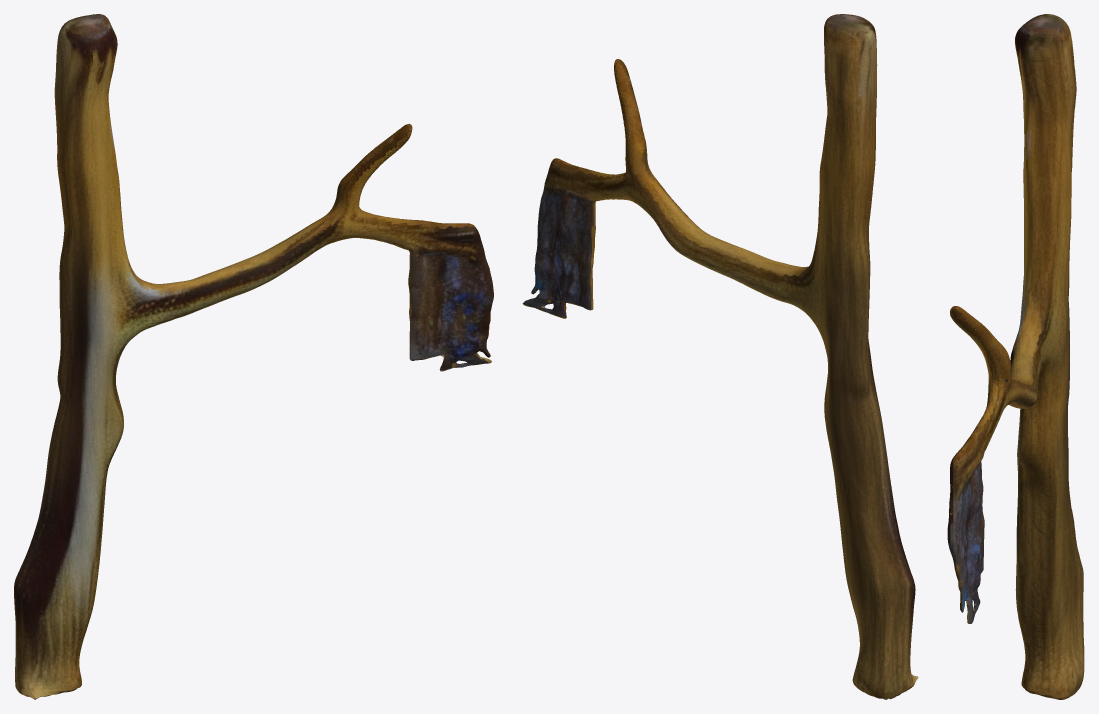
The picture shows the model from 3 angles, left to right: view 1: azimuth 30°, elevation 25°; view 2: azimuth 150°, elevation 25°; view 3: azimuth 270°, elevation 25°; orthographic projection. The views are drawn at different scales.
Visible parts, largest first — view 1: Hy21_Mesh.obj; view 2: Hy21_Mesh.obj; view 3: Hy21_Mesh.obj.
Part boxes in pixels (x1,y1,x2,y2): Hy21_Mesh.obj: [14, 14, 493, 699]; Hy21_Mesh.obj: [522, 14, 918, 699]; Hy21_Mesh.obj: [947, 14, 1084, 699].
Size of the model in its own units: 1.34 by 1.96 by 0.3534.
Materials: 1 (1 with a texture image).
